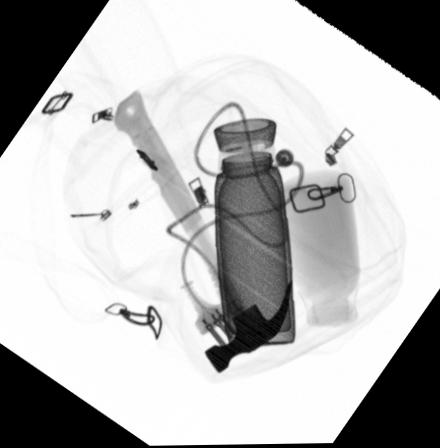Hammer: (110, 87, 292, 374)
